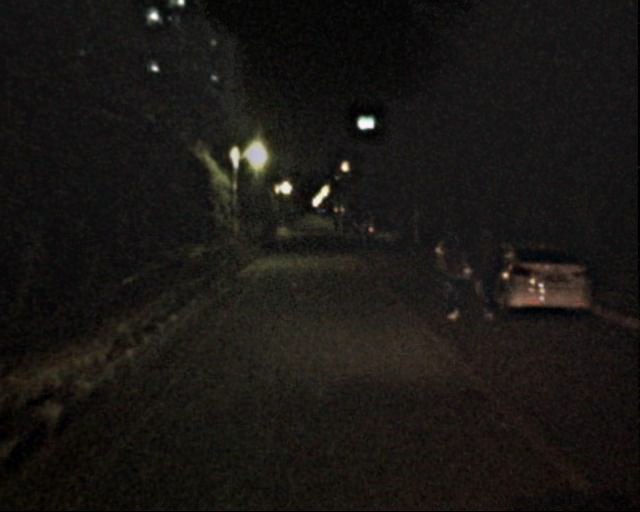person: (468, 226, 508, 323), (435, 232, 472, 322), (329, 220, 367, 247), (273, 216, 288, 251)
